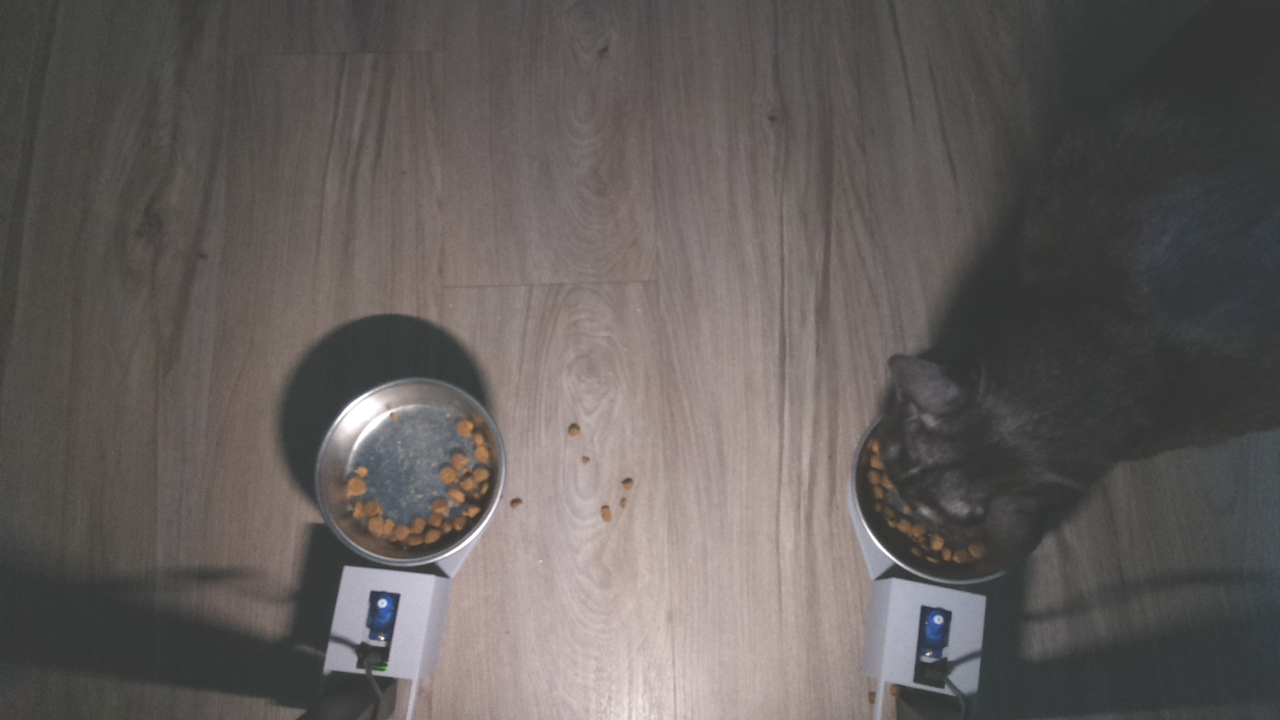open_bowl: (307, 370, 508, 568)
saki_eating: (844, 322, 1111, 591)
